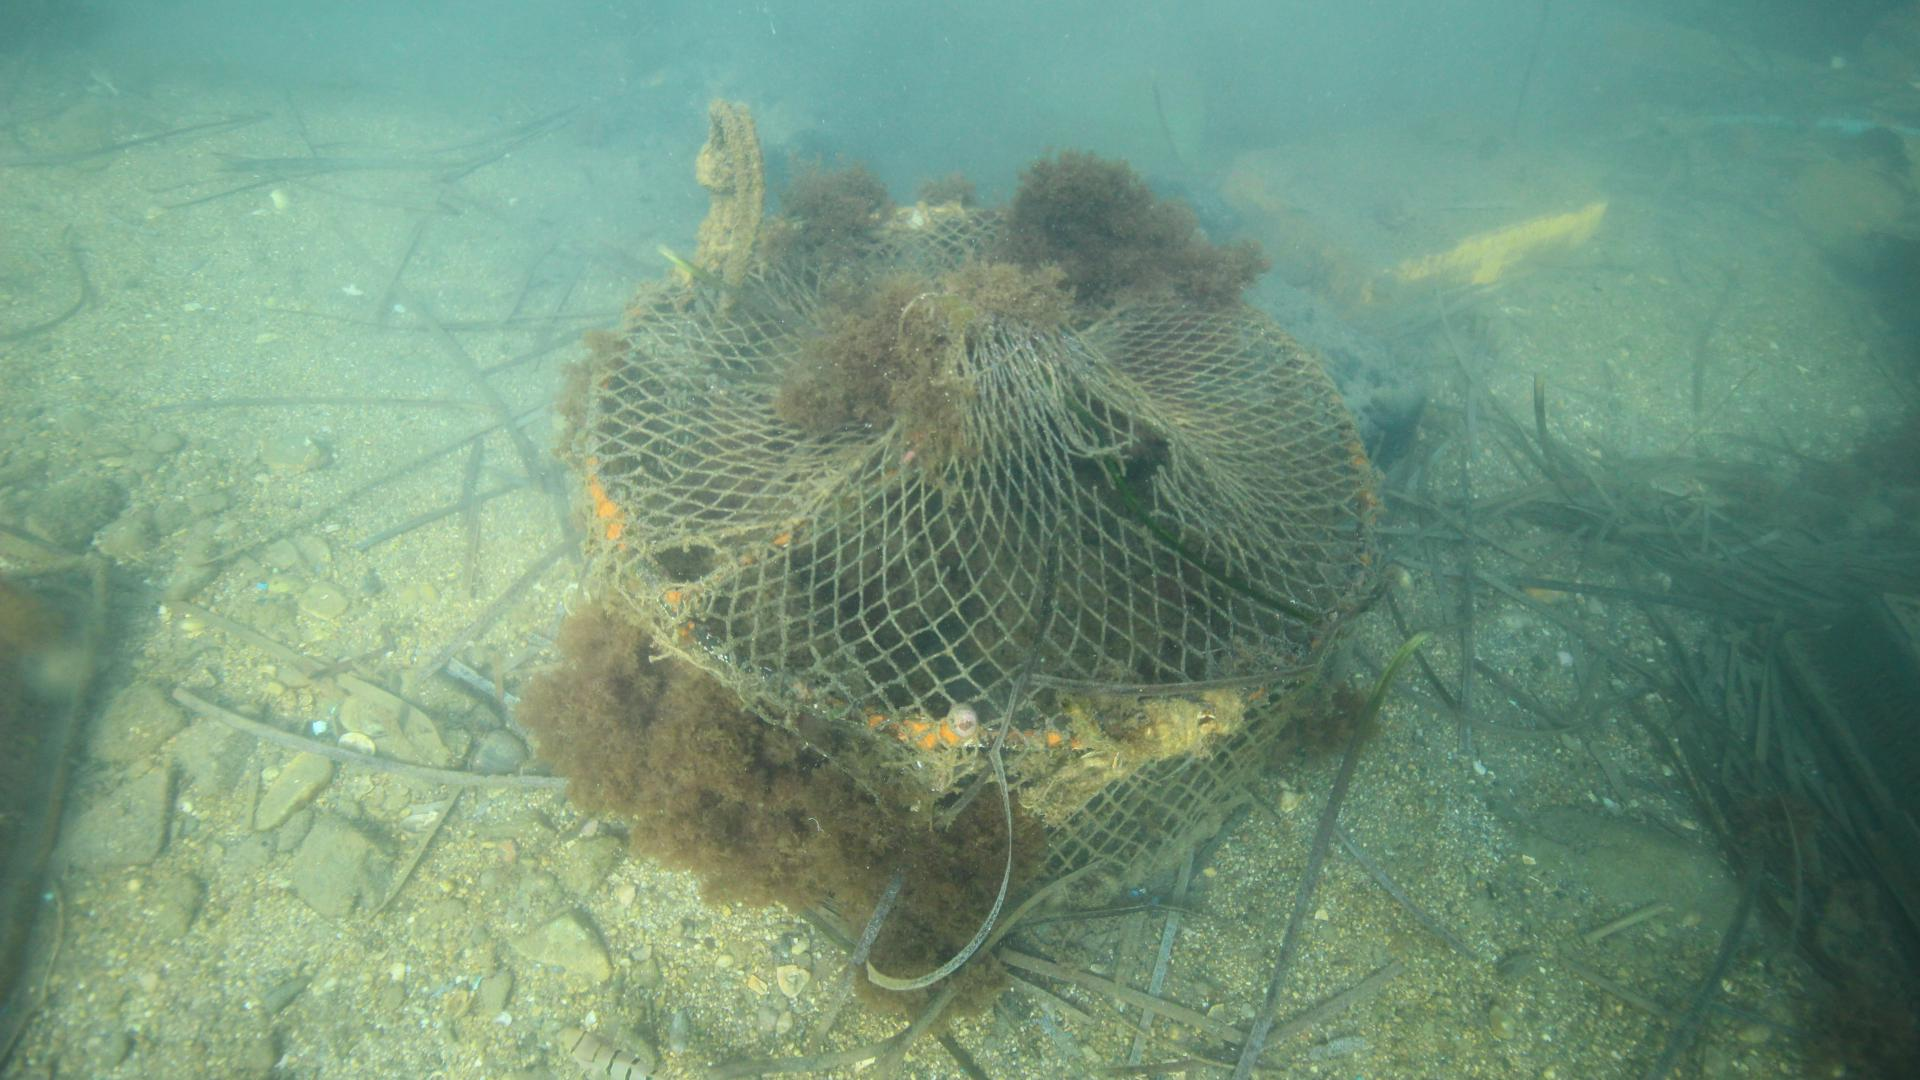bundle of ropes: (691, 96, 766, 319)
circular fish trap: (583, 200, 1378, 886)
